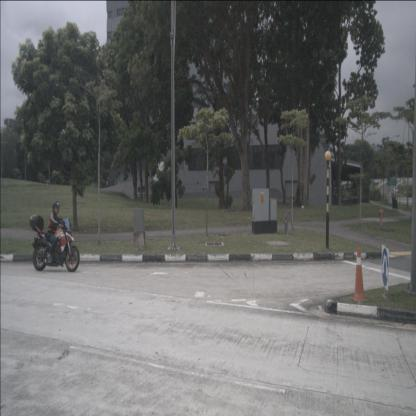movable_object-trafficcone: (350, 249, 370, 303)
vehicle-motorcycle: (29, 201, 80, 272)
